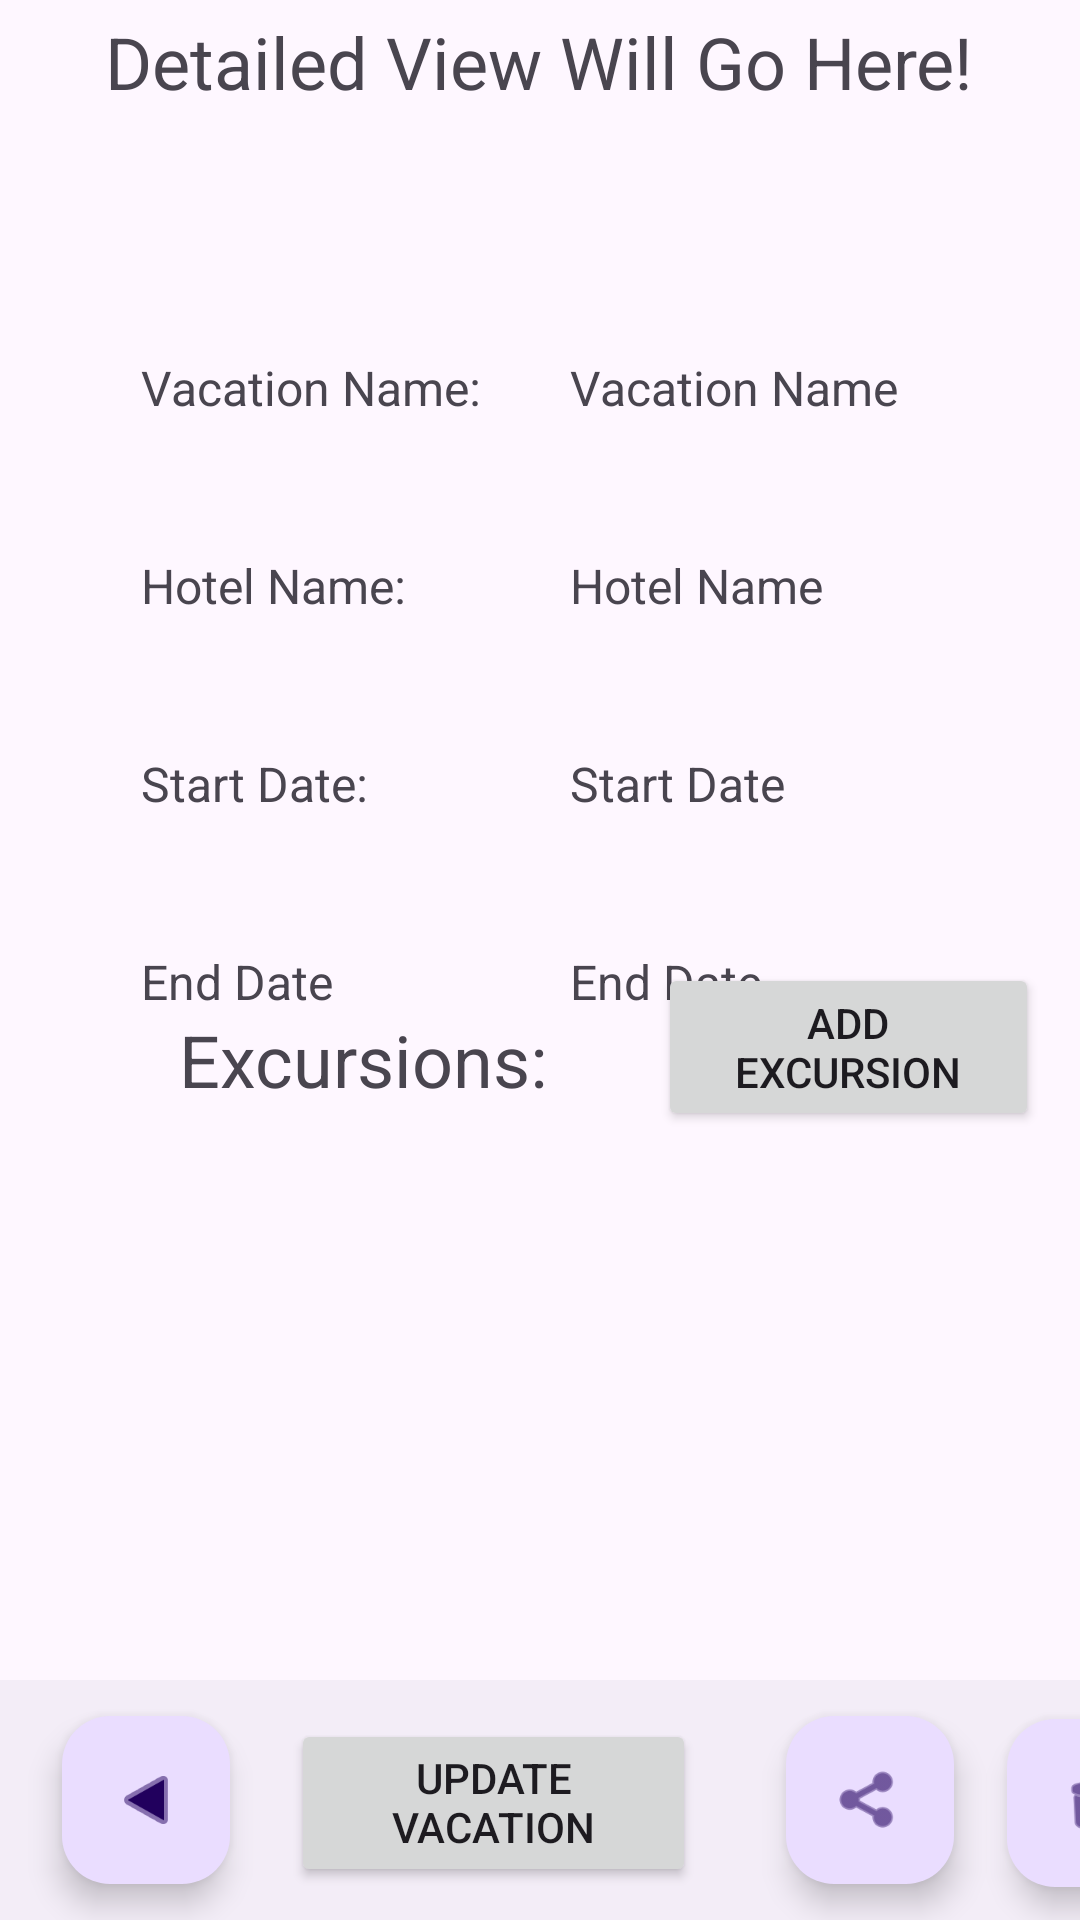

Icon click points for this 1080 x 1920 phone screenshot, format point (x, y):
share: point (870, 1800)
